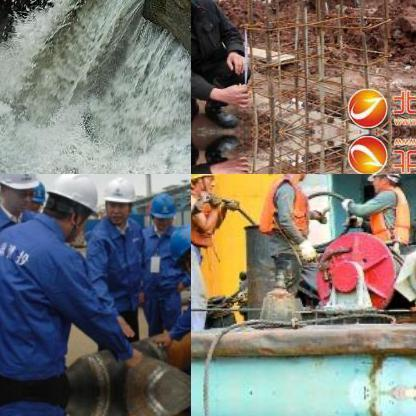Helmet: (43, 174, 95, 232), (101, 174, 137, 222), (0, 174, 41, 213), (165, 222, 190, 277), (147, 190, 175, 230), (367, 174, 402, 193), (191, 174, 216, 195), (280, 174, 315, 185)
